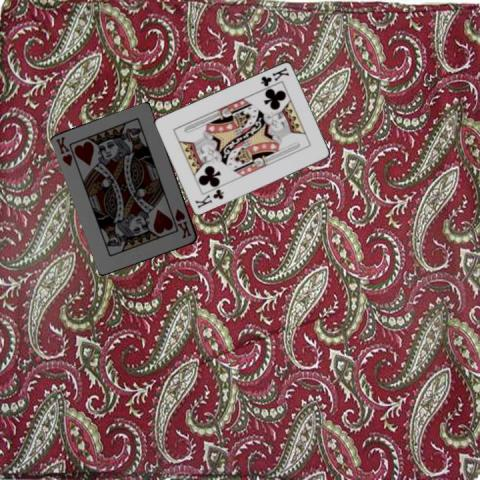Kc: (192, 187, 225, 210), (258, 65, 291, 88)
Kh: (53, 133, 74, 168), (172, 206, 193, 240)
